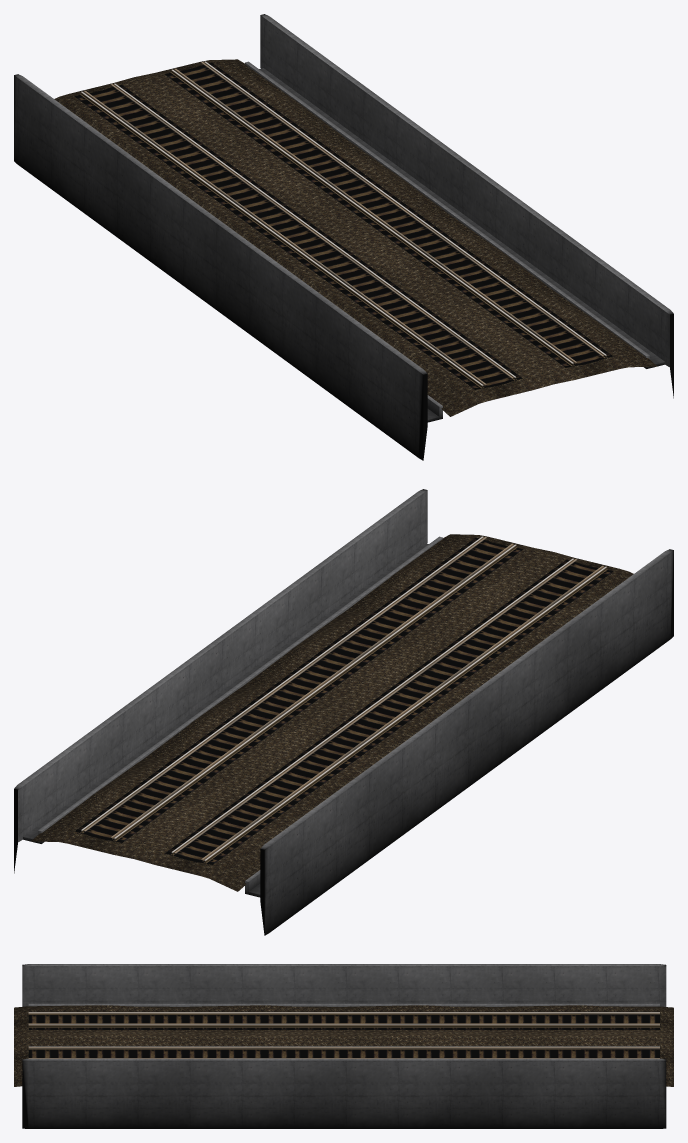
The model's file is KIN_2RAIL_100_WALL.glb.
3 renders of one model, top to bottom at view 1: azimuth 30°, elevation 25°; view 2: azimuth 150°, elevation 25°; view 3: azimuth 270°, elevation 25°, orthographic. The views are drawn at different scales.
Visible parts, largest first — view 1: Jari_All, R000_RG_R, R000_RG_L; view 2: Jari_All, R000_RG_R, R000_RG_L; view 3: Jari_All, R000_RG_R, R000_RG_L.
Boxes of the visible parts, x1,y1,x2,y2 form: Jari_All: [14, 14, 673, 460]; R000_RG_R: [83, 68, 576, 386]; R000_RG_L: [110, 62, 603, 378]; Jari_All: [14, 489, 673, 935]; R000_RG_R: [110, 543, 604, 861]; R000_RG_L: [83, 537, 577, 854]; Jari_All: [14, 964, 673, 1128]; R000_RG_R: [28, 1013, 659, 1049]; R000_RG_L: [28, 1023, 659, 1058].
Size of the model in its own units: 36.23 by 11.93 by 105.
Materials: 7 (6 with a texture image).
